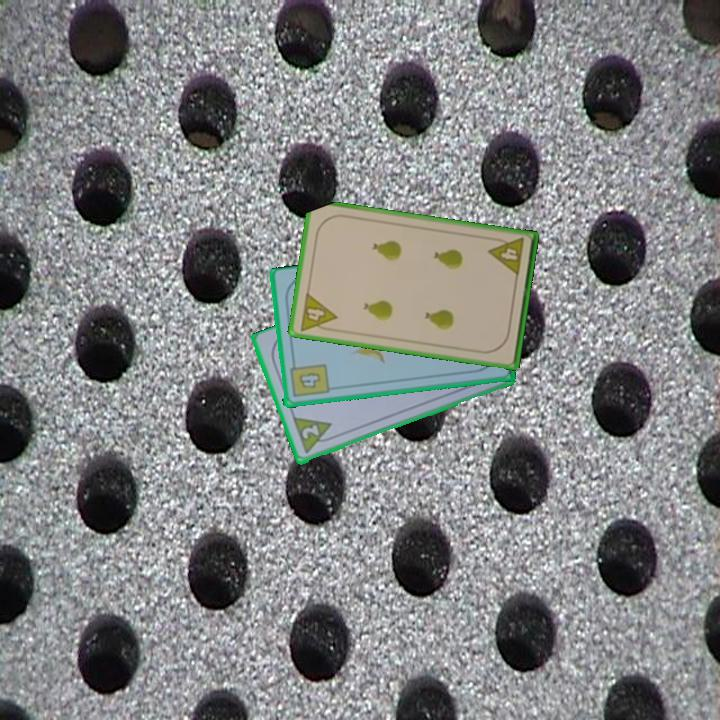2p: (289, 414, 339, 457)
4b: (286, 357, 331, 400)
4p: (296, 289, 340, 335), (485, 234, 527, 279)
